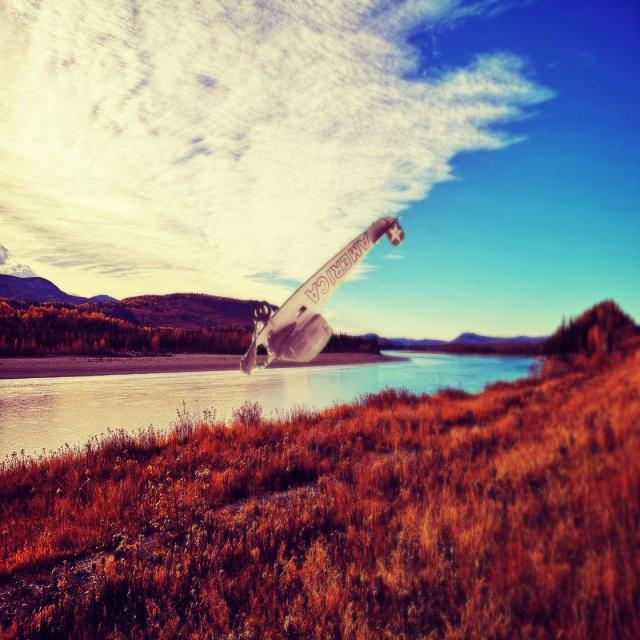airplane: (239, 215, 405, 375)
